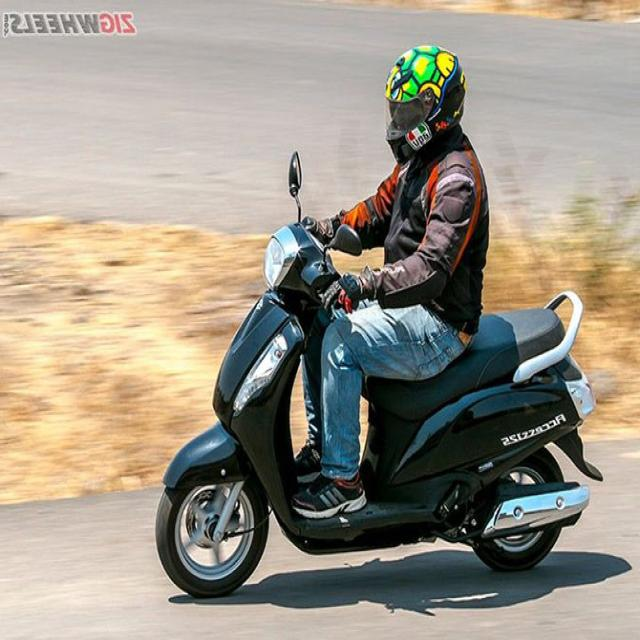motorcycle: (155, 45, 602, 598)
